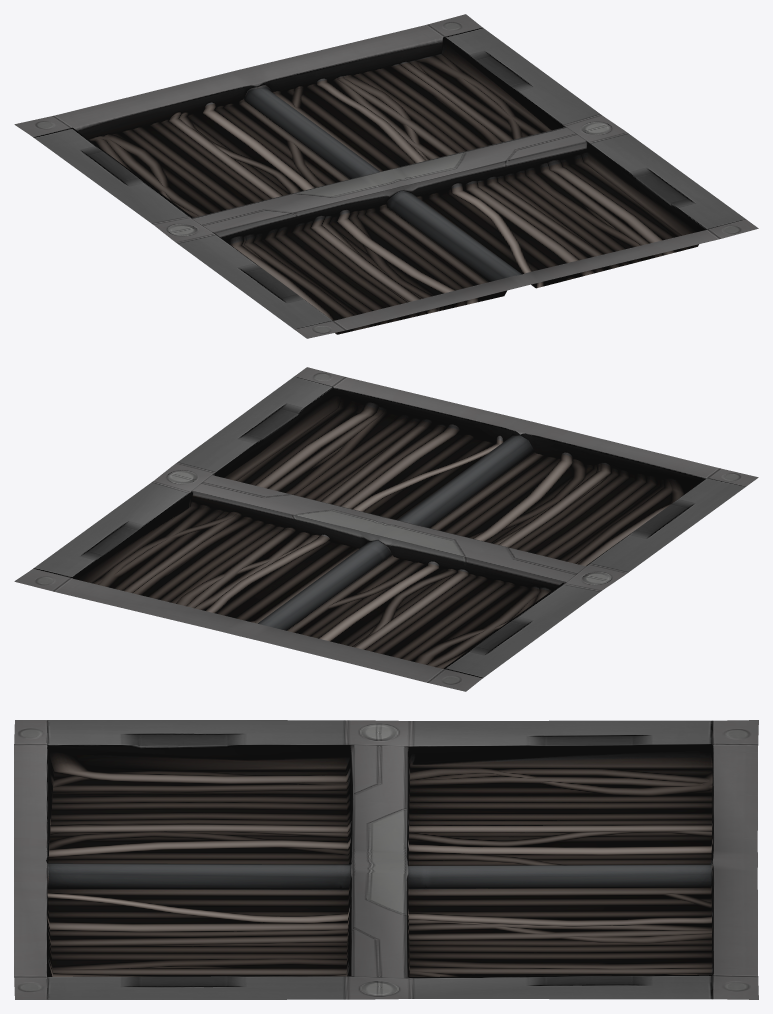
The model's file is WireRoof.fbx.
3 renders of one model, top to bottom at view 1: azimuth 30°, elevation 25°; view 2: azimuth 150°, elevation 25°; view 3: azimuth 270°, elevation 25°, orthographic. The views are drawn at different scales.
Parts seen in each view (by area): view 1: LowWireroof:RetopoGroup1; view 2: LowWireroof:RetopoGroup1; view 3: LowWireroof:RetopoGroup1.
Boxes of the visible parts, x1,y1,x2,y2 form: LowWireroof:RetopoGroup1: (14, 14, 758, 338); LowWireroof:RetopoGroup1: (14, 367, 758, 691); LowWireroof:RetopoGroup1: (14, 720, 758, 999).
Size of the model in its own units: 572 by 22.23 by 644.
